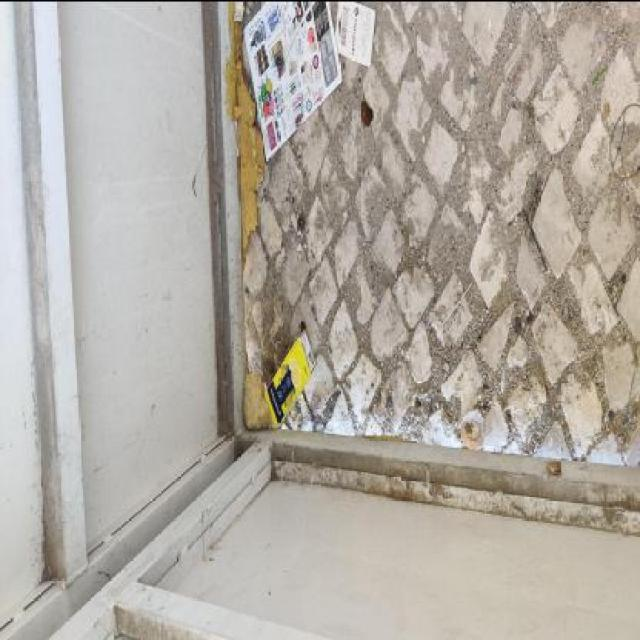cardboard: (264, 325, 318, 427), (334, 2, 377, 66)
paper: (242, 1, 343, 161)
